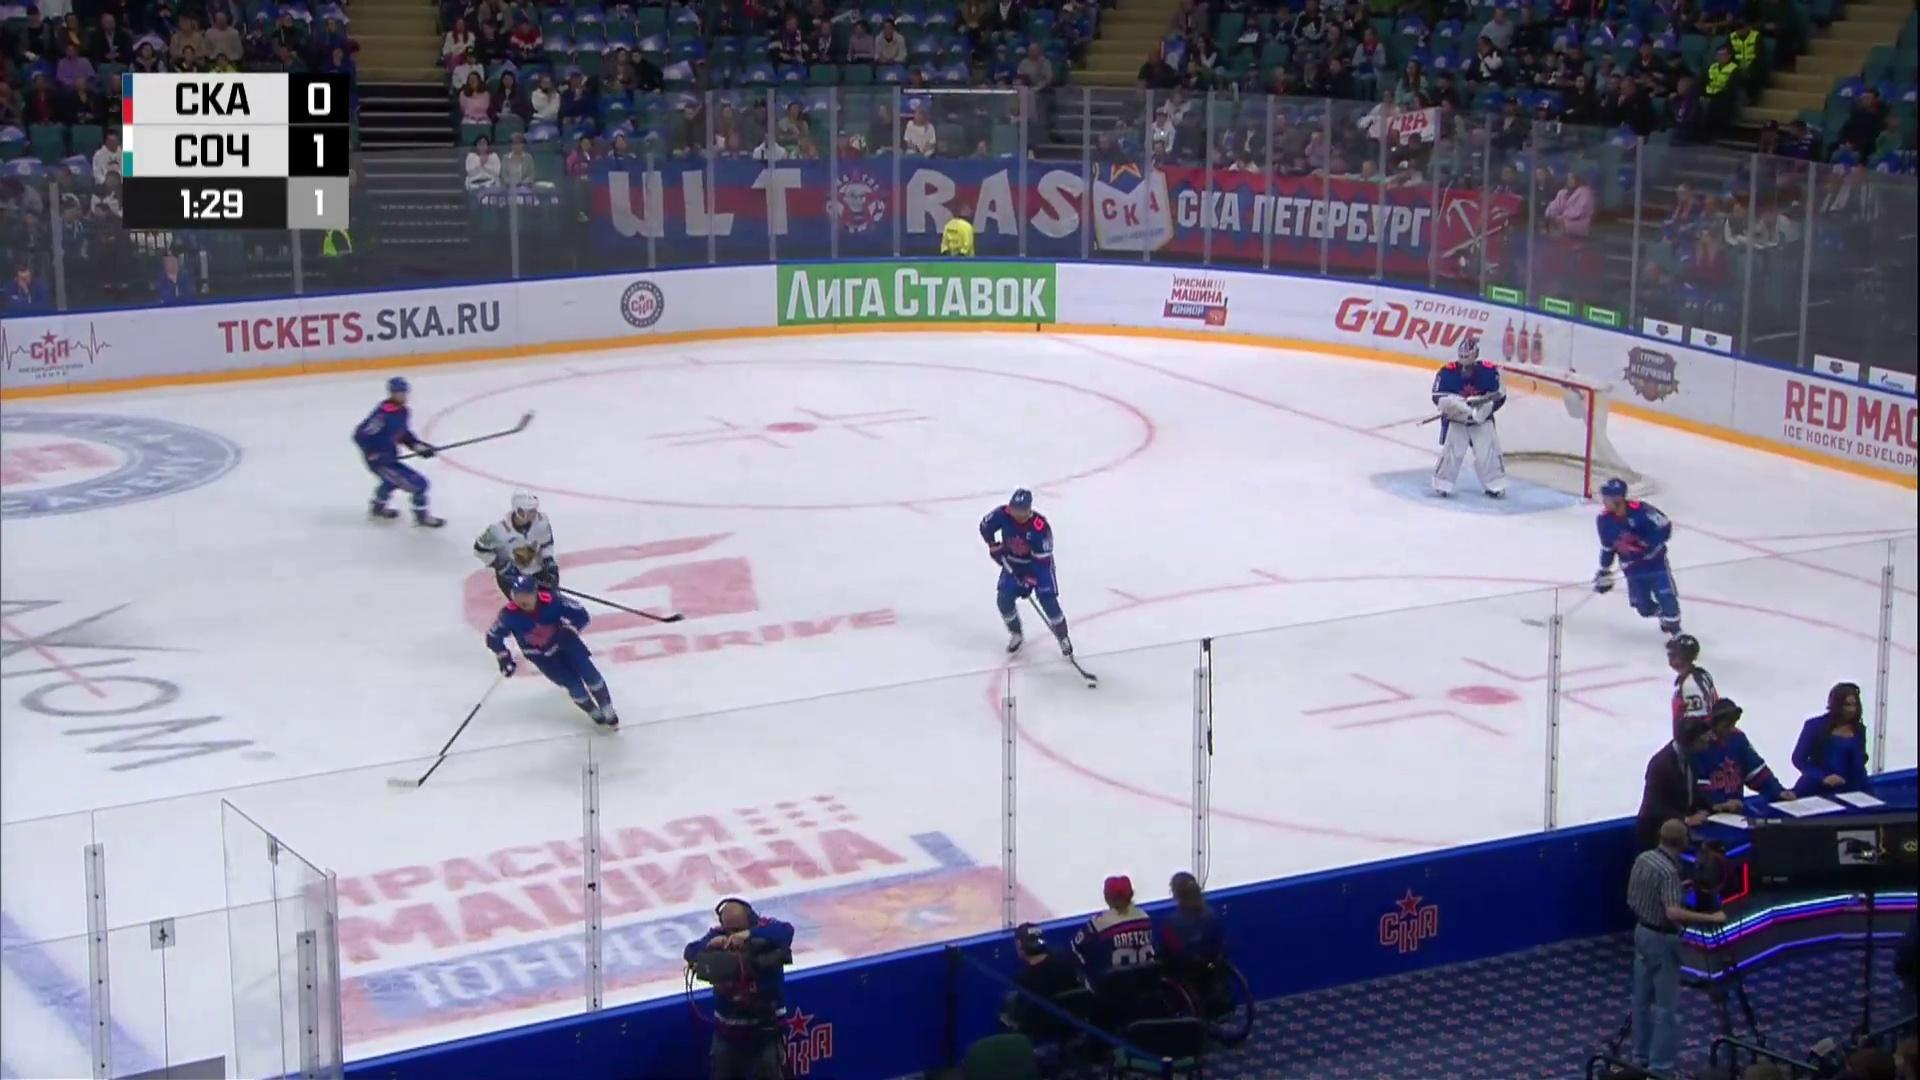ball: (1088, 683, 1097, 690)
